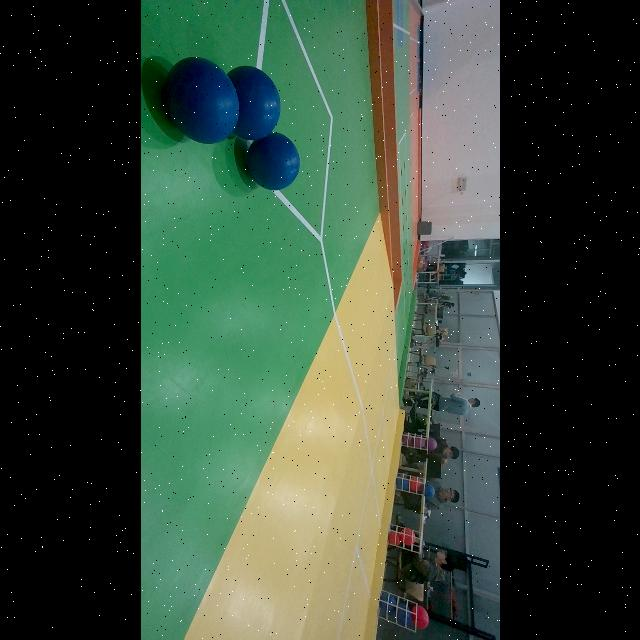B: (161, 56, 239, 144), (218, 64, 282, 142), (245, 132, 299, 190)
